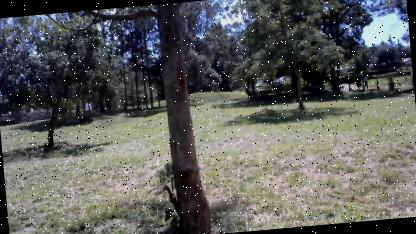tree: (142, 0, 220, 234), (238, 0, 354, 121)
